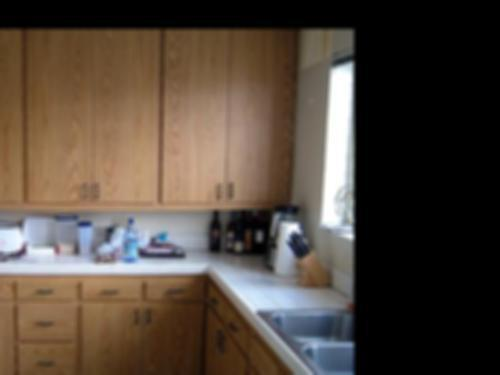Lavaplatos: (248, 290, 353, 375)
